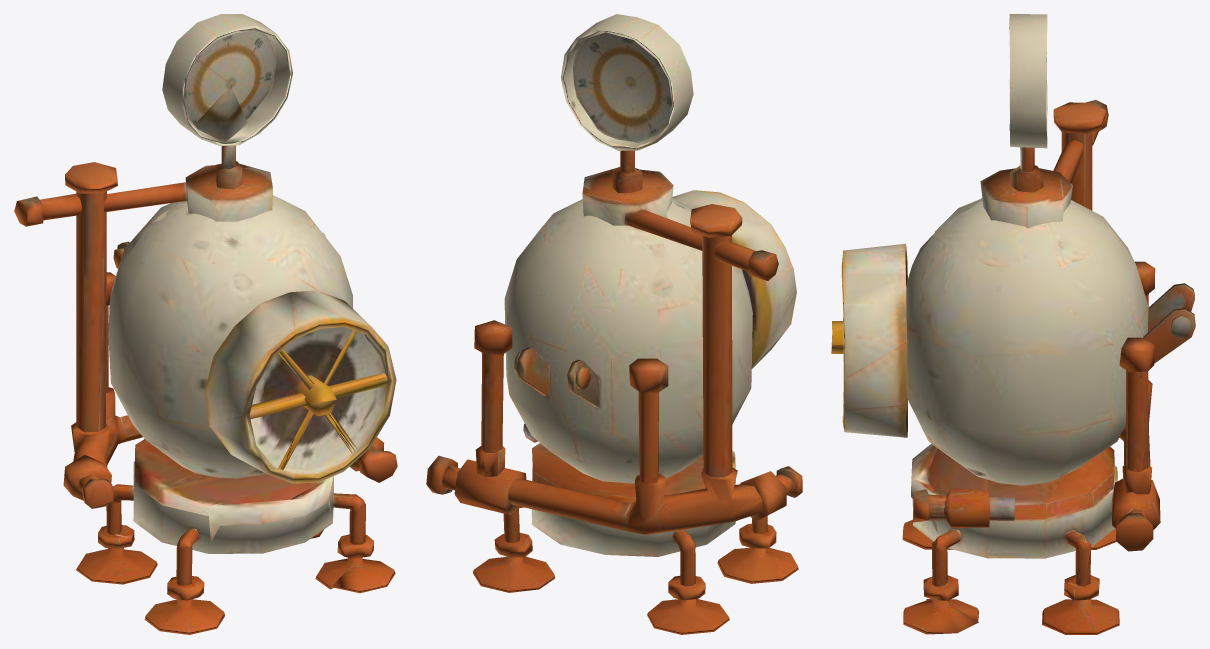
Rendered from pump.glb.
The picture shows the model from 3 angles, left to right: view 1: azimuth 30°, elevation 25°; view 2: azimuth 150°, elevation 25°; view 3: azimuth 270°, elevation 25°; orthographic projection.
Visible parts, largest first — view 1: pump; view 2: pump; view 3: pump.
Boxes of the visible parts, x1,y1,x2,y2 form: pump: [14, 14, 397, 634]; pump: [426, 14, 802, 634]; pump: [831, 14, 1195, 634].
Size of the model in its own units: 0.5379 by 0.9 by 0.5364.
Materials: 1 (1 with a texture image).
